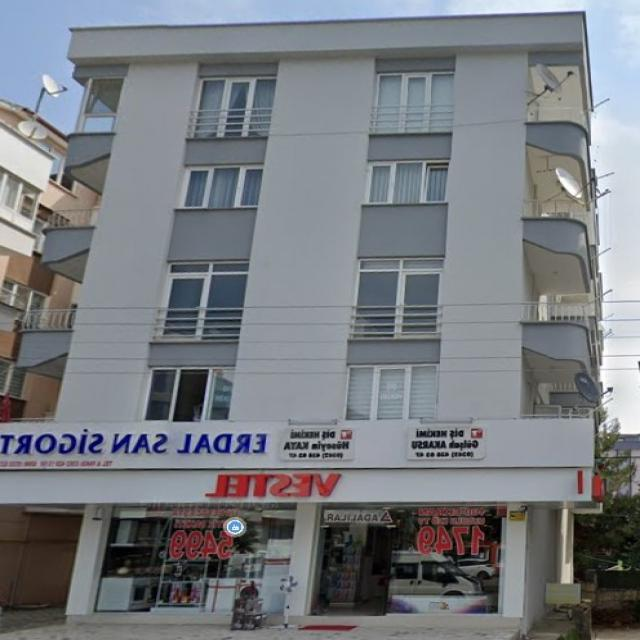Building: (0, 14, 602, 630)
